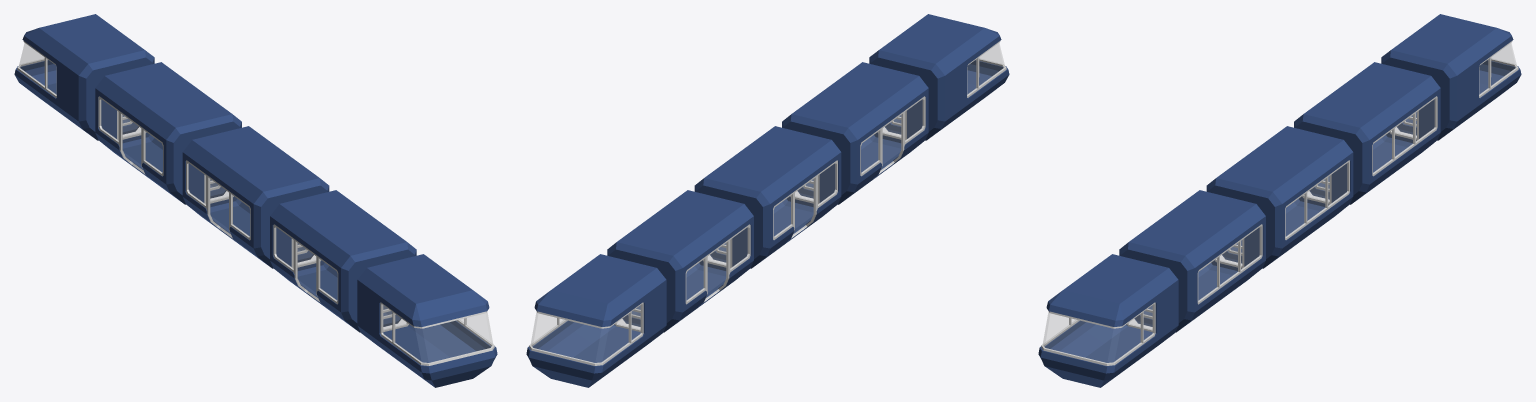
The model's file is act-1-train-1.glb.
3 renders of one model, left to right at view 1: azimuth 30°, elevation 25°; view 2: azimuth 150°, elevation 25°; view 3: azimuth 330°, elevation 25°, orthographic.
Visible parts, largest first — view 1: act-1-train-1; view 2: act-1-train-1; view 3: act-1-train-1.
Part boxes in pixels (box(x1,y1,x2,y2)): act-1-train-1: box(14, 14, 497, 387); act-1-train-1: box(526, 14, 1009, 387); act-1-train-1: box(1038, 14, 1521, 387).
Size of the model in its own units: 4 by 4 by 37.81.
